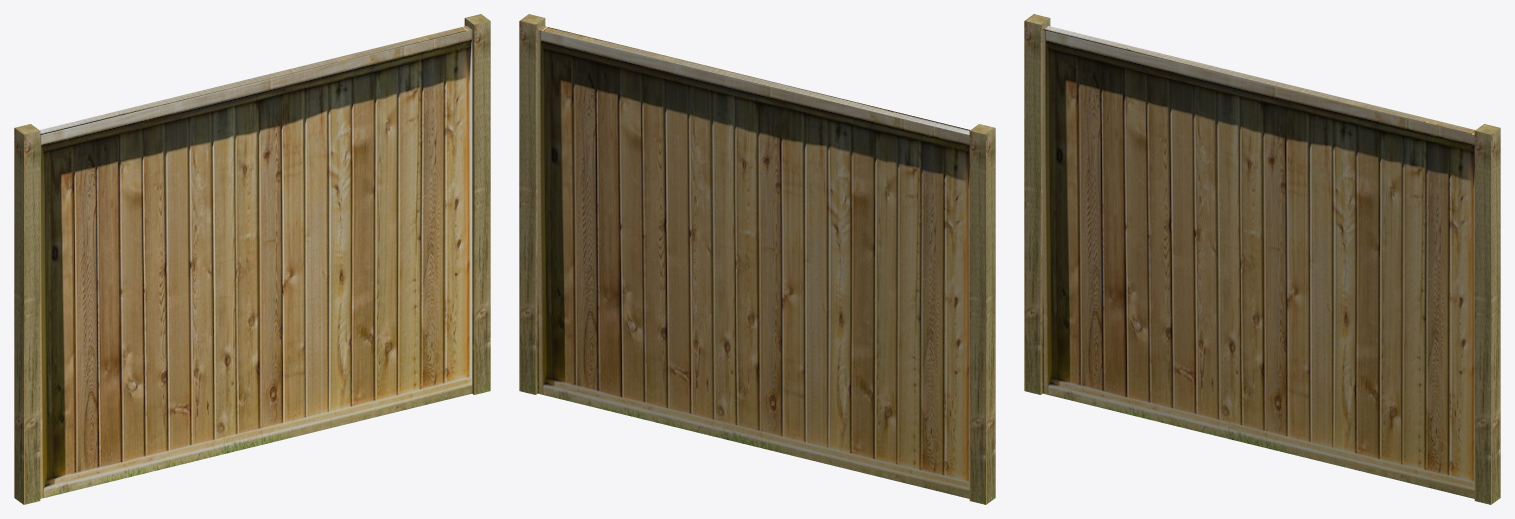
File: geo_Fence.fbx
3 renders of one model, left to right at view 1: azimuth 30°, elevation 25°; view 2: azimuth 150°, elevation 25°; view 3: azimuth 330°, elevation 25°, orthographic.
Parts seen in each view (by area): view 1: geo_Fence; view 2: geo_Fence; view 3: geo_Fence.
Part boxes in pixels (x1,y1,x2,y2): geo_Fence: [14, 14, 490, 504]; geo_Fence: [519, 14, 995, 504]; geo_Fence: [1024, 14, 1500, 504].
Bounding box in the file's own units: 250 × 189 × 8.74.
Materials: 1 (1 with a texture image).
